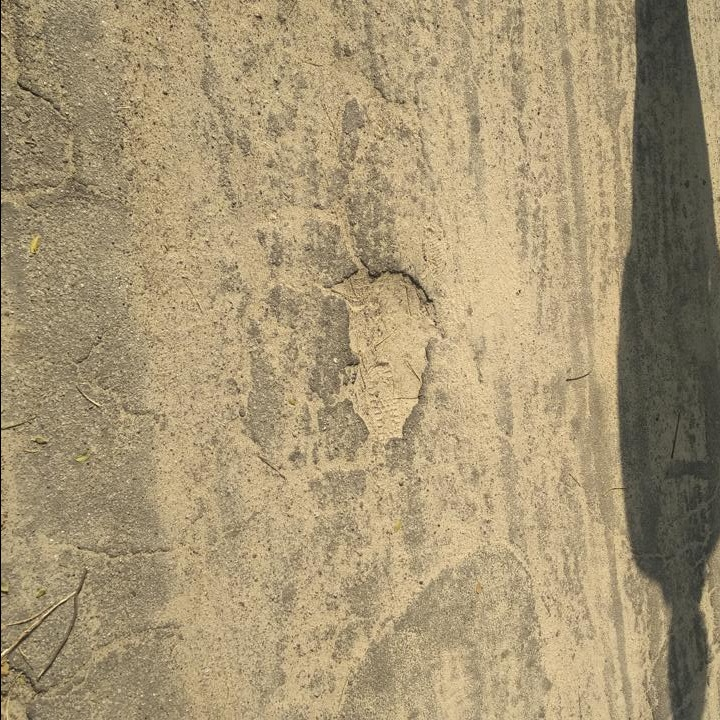pothole: (323, 259, 446, 448)
